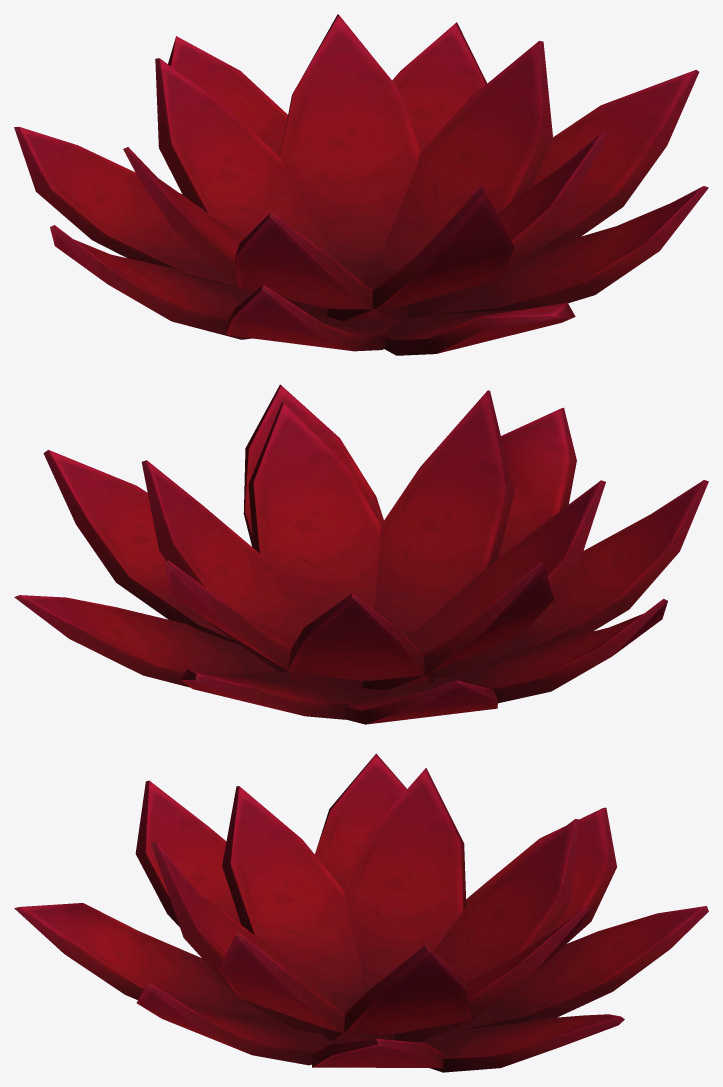
Rendered from DE_Cactus_14.fbx.
The picture shows the model from 3 angles, top to bottom: view 1: azimuth 30°, elevation 25°; view 2: azimuth 150°, elevation 25°; view 3: azimuth 270°, elevation 25°; orthographic projection. The views are drawn at different scales.
Parts seen in each view (by area): view 1: DE_Cactus_14; view 2: DE_Cactus_14; view 3: DE_Cactus_14.
Boxes of the visible parts, x1,y1,x2,y2 form: DE_Cactus_14: [14, 14, 708, 355]; DE_Cactus_14: [14, 384, 708, 724]; DE_Cactus_14: [14, 753, 708, 1072].
Size of the model in its own units: 1.74 by 0.5479 by 1.78.
